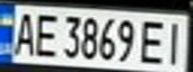3: (57, 11, 84, 60)
6: (96, 15, 121, 62)
8: (78, 14, 100, 61)
9: (115, 16, 142, 63)
A: (9, 8, 39, 56)
E: (136, 16, 172, 65), (30, 9, 60, 58)
I: (160, 17, 190, 66)
